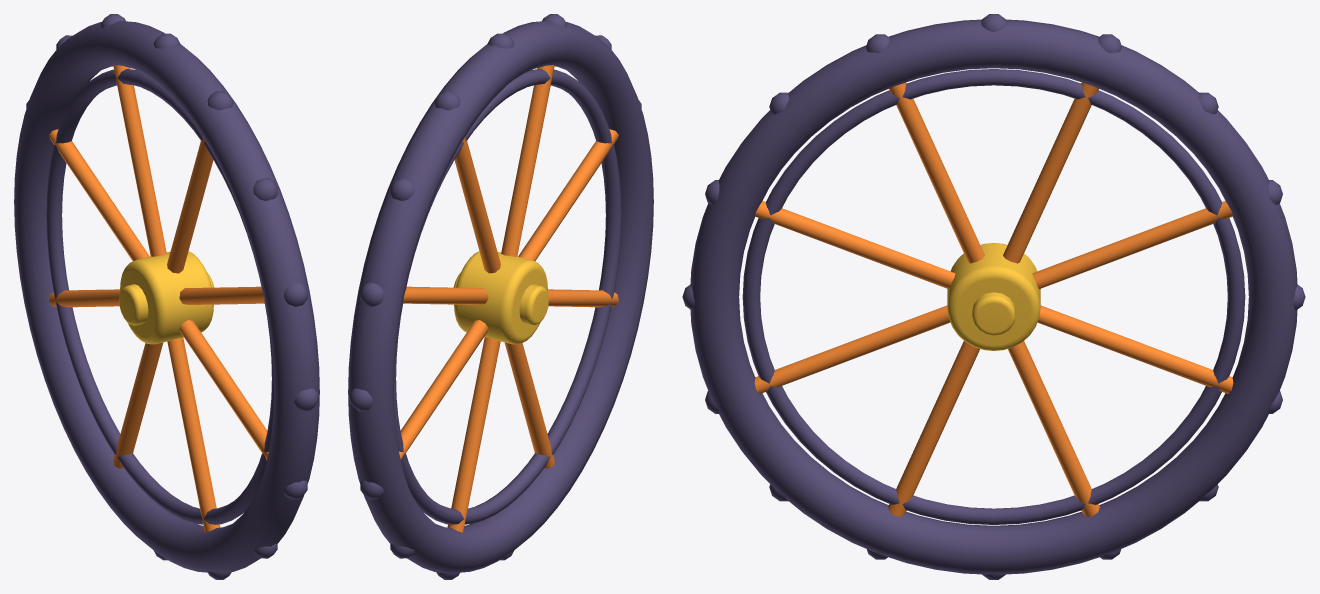
Rendered from FireWheel.obj.
3 views of the same model, side by side, from view 1: azimuth 30°, elevation 25°; view 2: azimuth 150°, elevation 25°; view 3: azimuth 270°, elevation 25° (orthographic). The views are drawn at different scales.
Parts seen in each view (by area): view 1: Rim, Spokes, Hub; view 2: Rim, Spokes, Hub; view 3: Rim, Spokes, Hub.
Boxes of the visible parts, x1,y1,x2,y2 form: Rim: (14,14,319,579); Spokes: (49,65,268,532); Hub: (119,251,214,344); Rim: (348,14,653,579); Spokes: (399,65,618,532); Hub: (453,251,548,344); Rim: (682,14,1305,579); Spokes: (754,82,1233,516); Hub: (947,243,1040,350).
Bounding box in the file's own units: 3.6 × 22.74 × 22.74.
